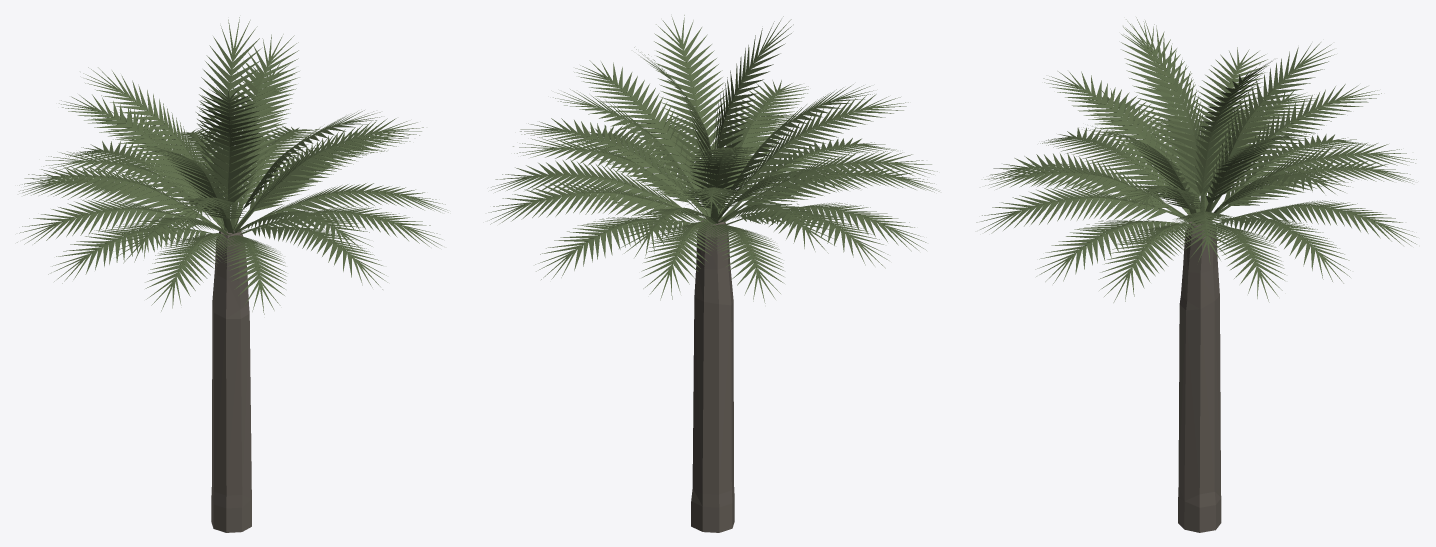
Rendered from 2 Palme (more leaves).fbx.
The picture shows the model from 3 angles, left to right: view 1: azimuth 30°, elevation 25°; view 2: azimuth 150°, elevation 25°; view 3: azimuth 270°, elevation 25°; orthographic projection. The views are drawn at different scales.
Visible parts, largest first — view 1: Palm 2 (more leaves); view 2: Palm 2 (more leaves); view 3: Palm 2 (more leaves).
Part boxes in pixels (bbox=[...]): Palm 2 (more leaves): bbox=[17, 17, 448, 532]; Palm 2 (more leaves): bbox=[488, 15, 939, 532]; Palm 2 (more leaves): bbox=[976, 17, 1416, 532].
Bounding box in the file's own units: 519 × 616 × 515.
